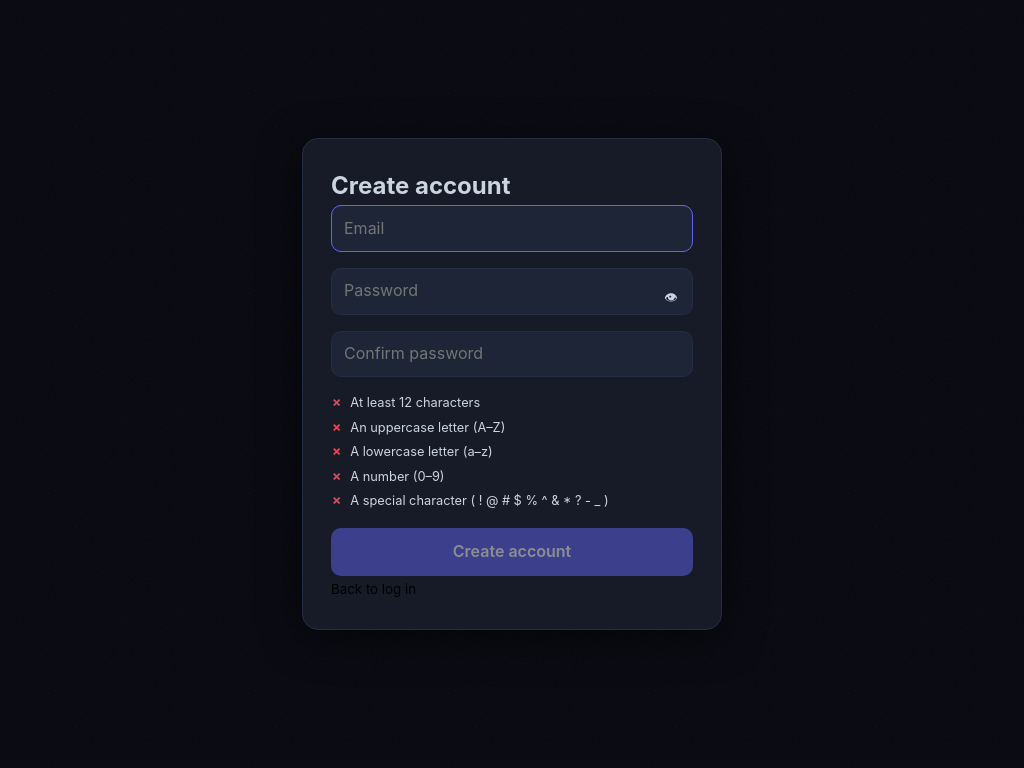
AuthModal › keeps the register submit disabled until the password is valid and matches
Expected: the button "Create account" is disabled, [331,528,693,576]
Type "LongEnough1!xx" into the password field labelled "Password" at (512, 291), box [331,268,693,315]
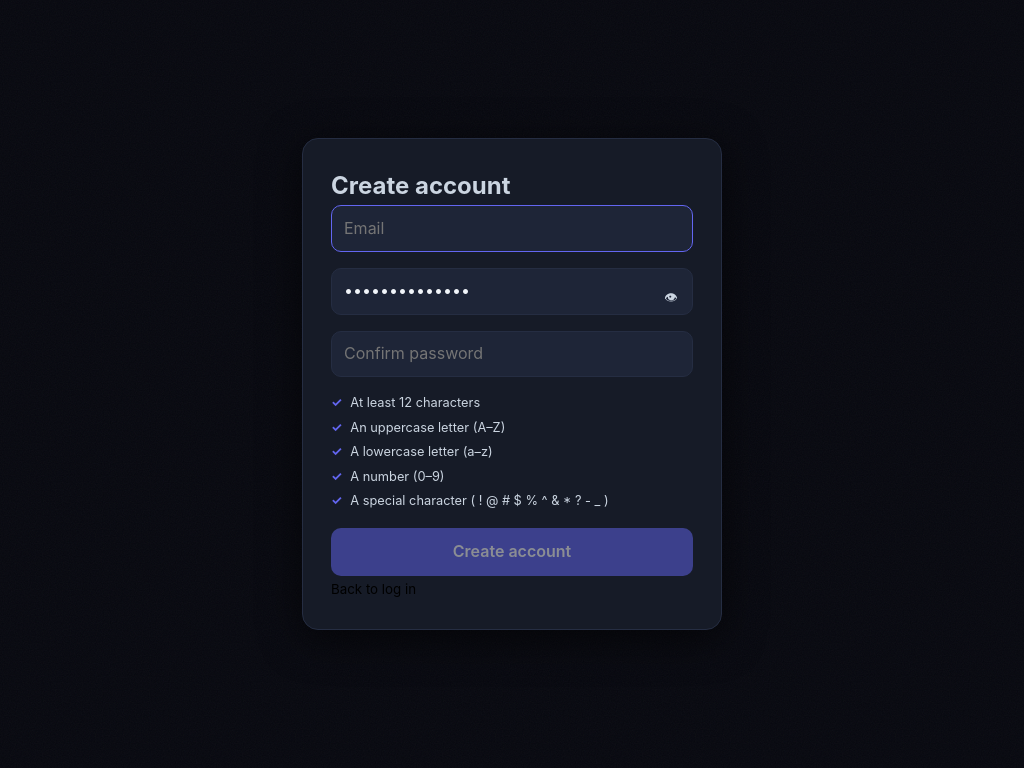
Type "LongEnough1!xx" into the password field labelled "Confirm password" at (512, 354), box [331,331,693,377]
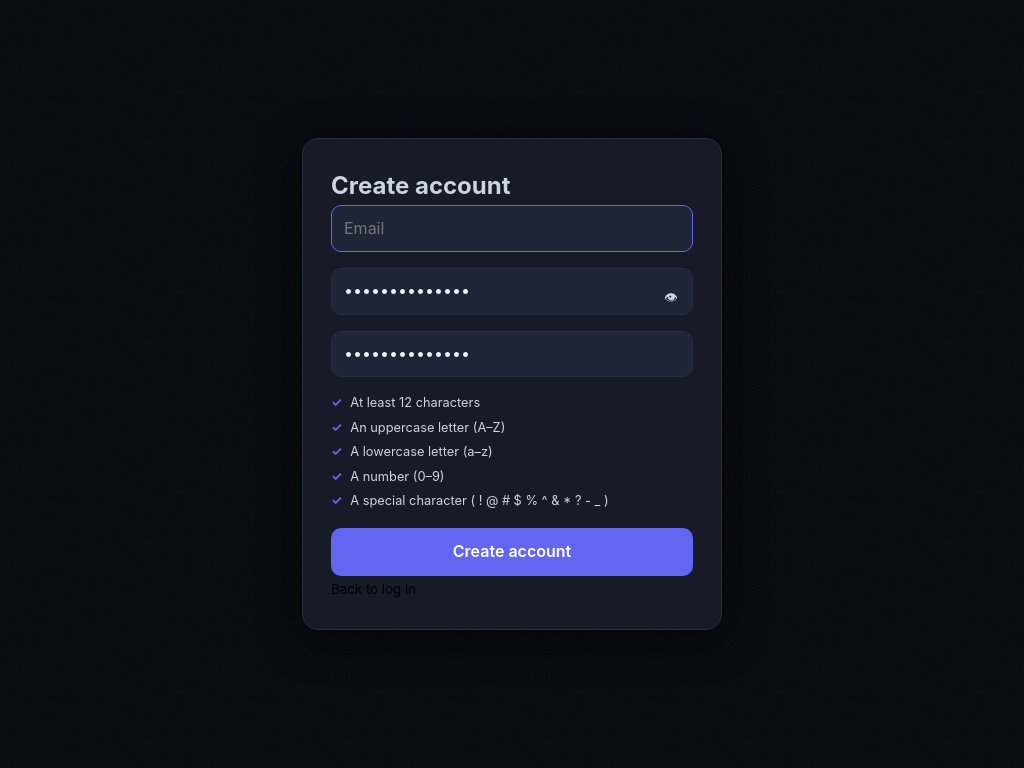
Result: the button "Create account" is enabled at [331,528,693,576]
